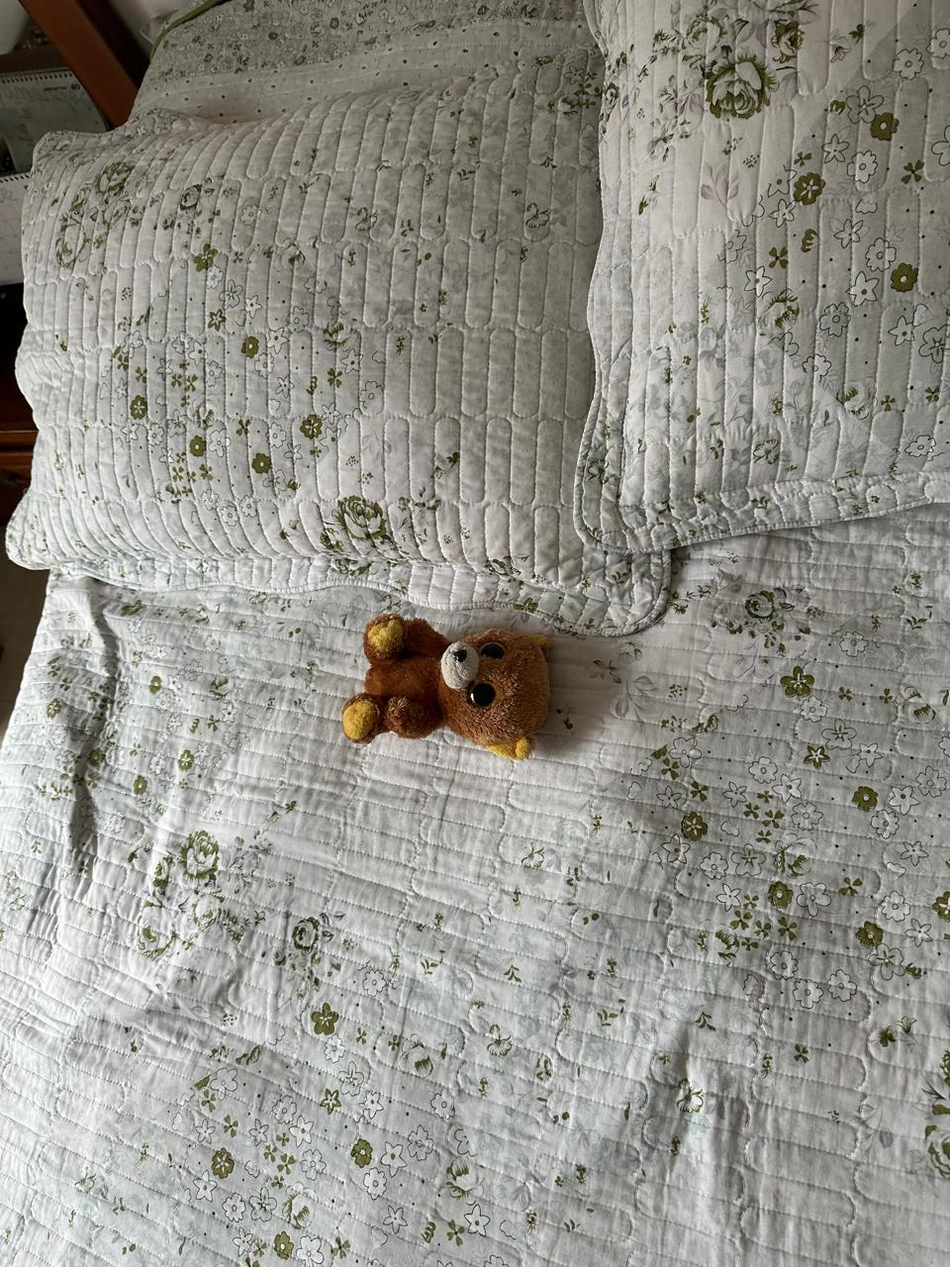peluche_sebastian: (336, 611, 554, 762)
